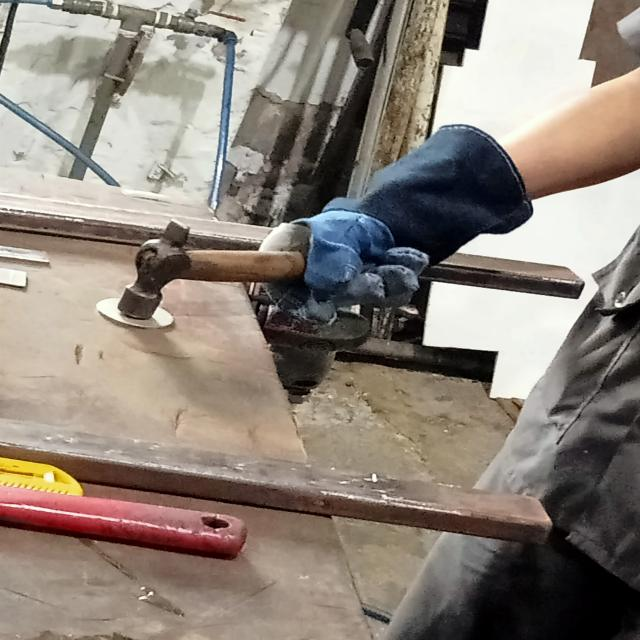Gloves-Detection: (254, 128, 543, 321)
